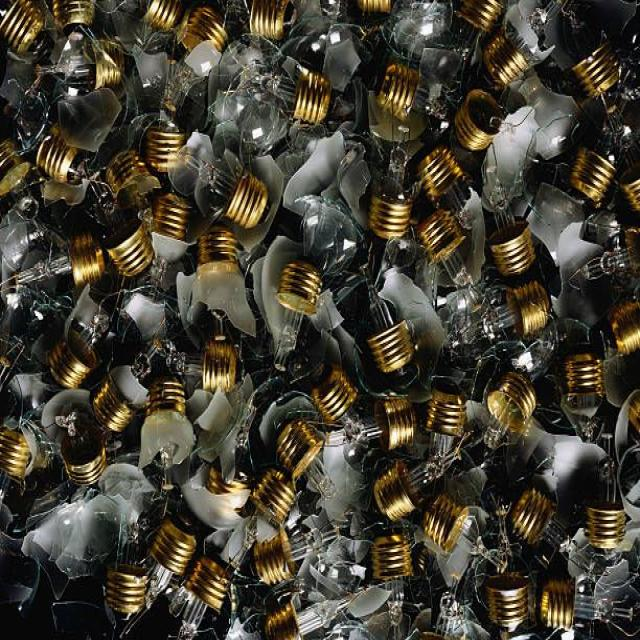electronic: (1, 0, 638, 637), (274, 257, 323, 316)
